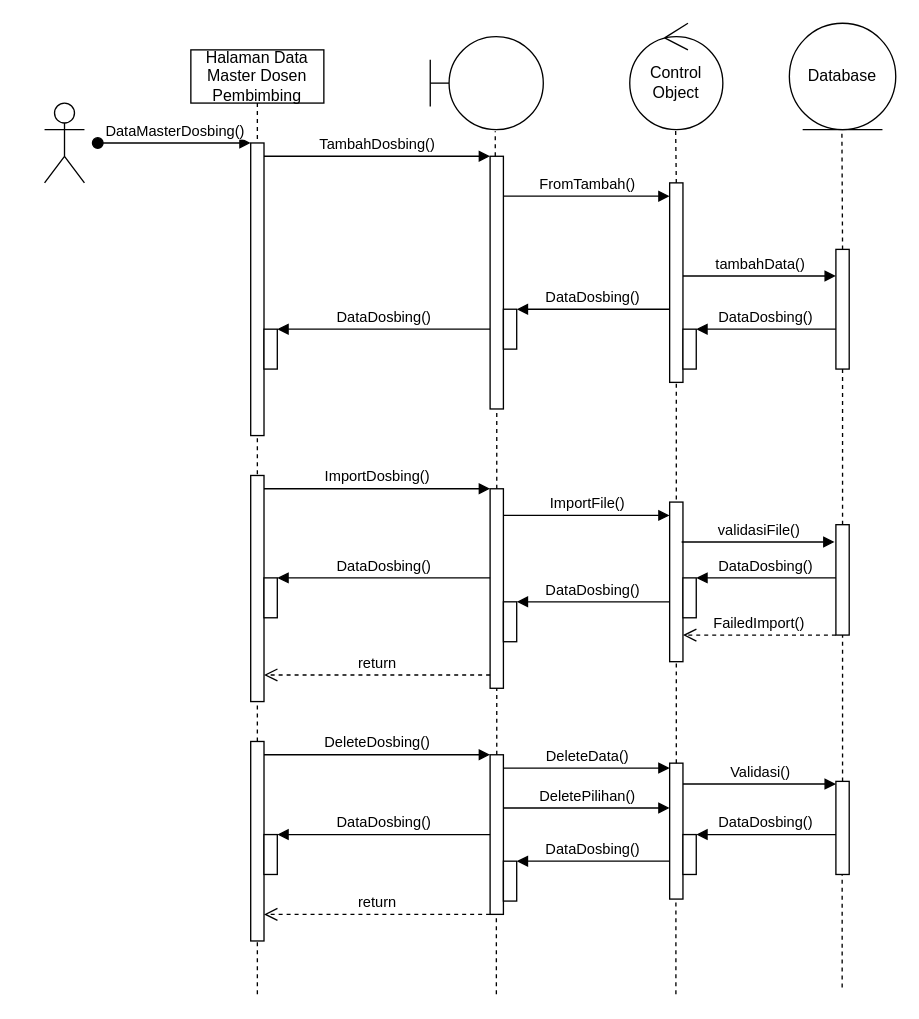
Some shapes in this 919 by 1019 pixel diagram are drawn without their labels. The shapes that lost their labels are listed below. From the top down, each one's centre as x and y in pixels, then its label:
(486,82): Button
(63,142): Koordinator
